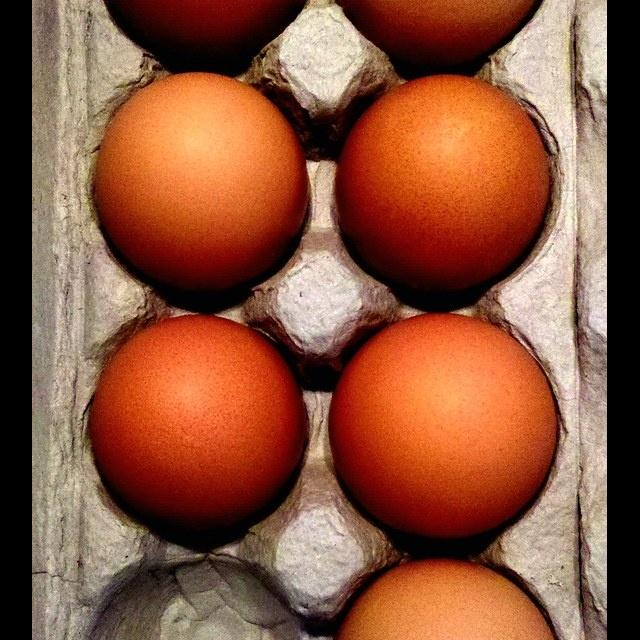egg: (328, 312, 558, 538), (334, 72, 552, 292), (92, 70, 308, 292), (89, 312, 308, 530), (326, 557, 565, 640), (329, 0, 555, 65), (97, 0, 309, 59)
